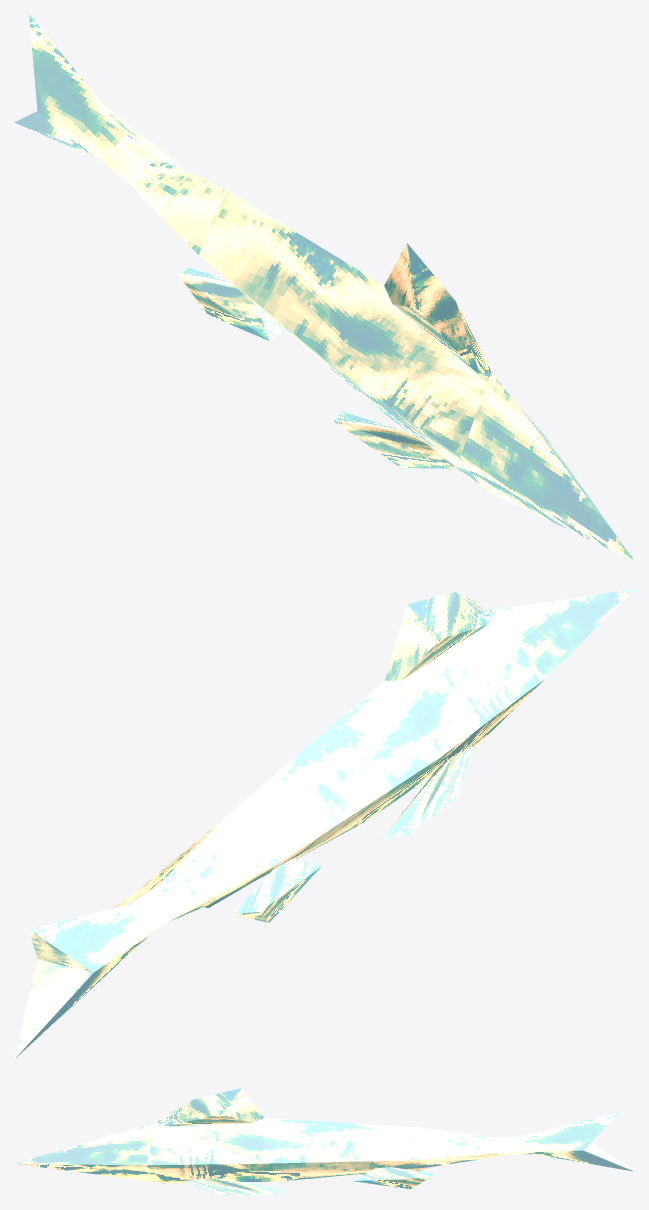
The model's file is bigFish_3.glb.
3 views of the same model, one above another, from view 1: azimuth 30°, elevation 25°; view 2: azimuth 150°, elevation 25°; view 3: azimuth 270°, elevation 25° (orthographic). The views are drawn at different scales.
Parts seen in each view (by area): view 1: bigFish_3; view 2: bigFish_3; view 3: bigFish_3.
Part boxes in pixels (x1,y1,x2,y2): bigFish_3: [14, 14, 634, 560]; bigFish_3: [14, 589, 634, 1059]; bigFish_3: [15, 1088, 634, 1195].
Bounding box in the file's own units: 0.7031 × 1.27 × 7.09.
